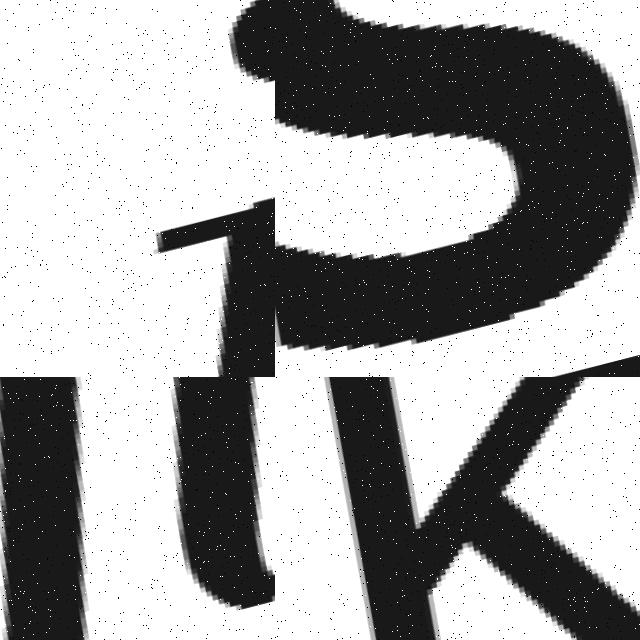I: (66, 0, 275, 377)
K: (275, 377, 640, 640)
M: (0, 377, 275, 640)
S: (275, 0, 640, 377)
